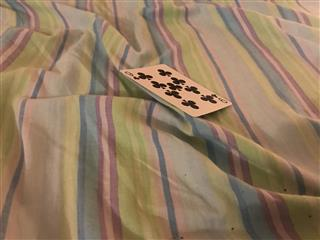NineOfClubs: (118, 63, 233, 117)
